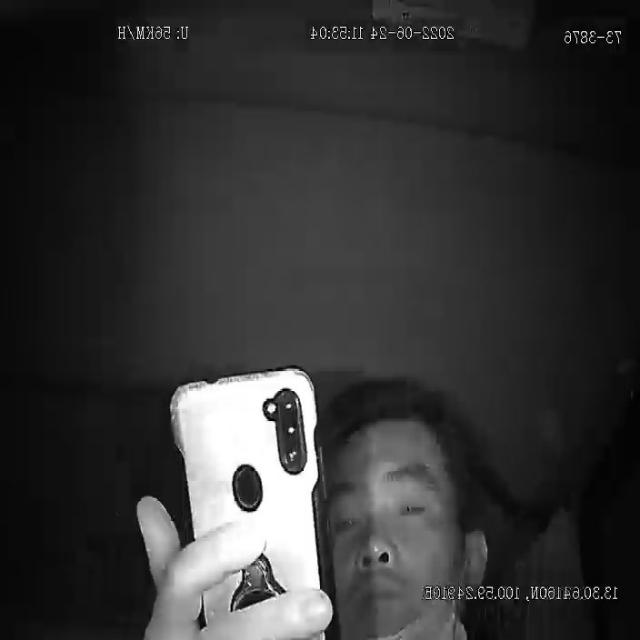phone: (165, 358, 329, 640)
